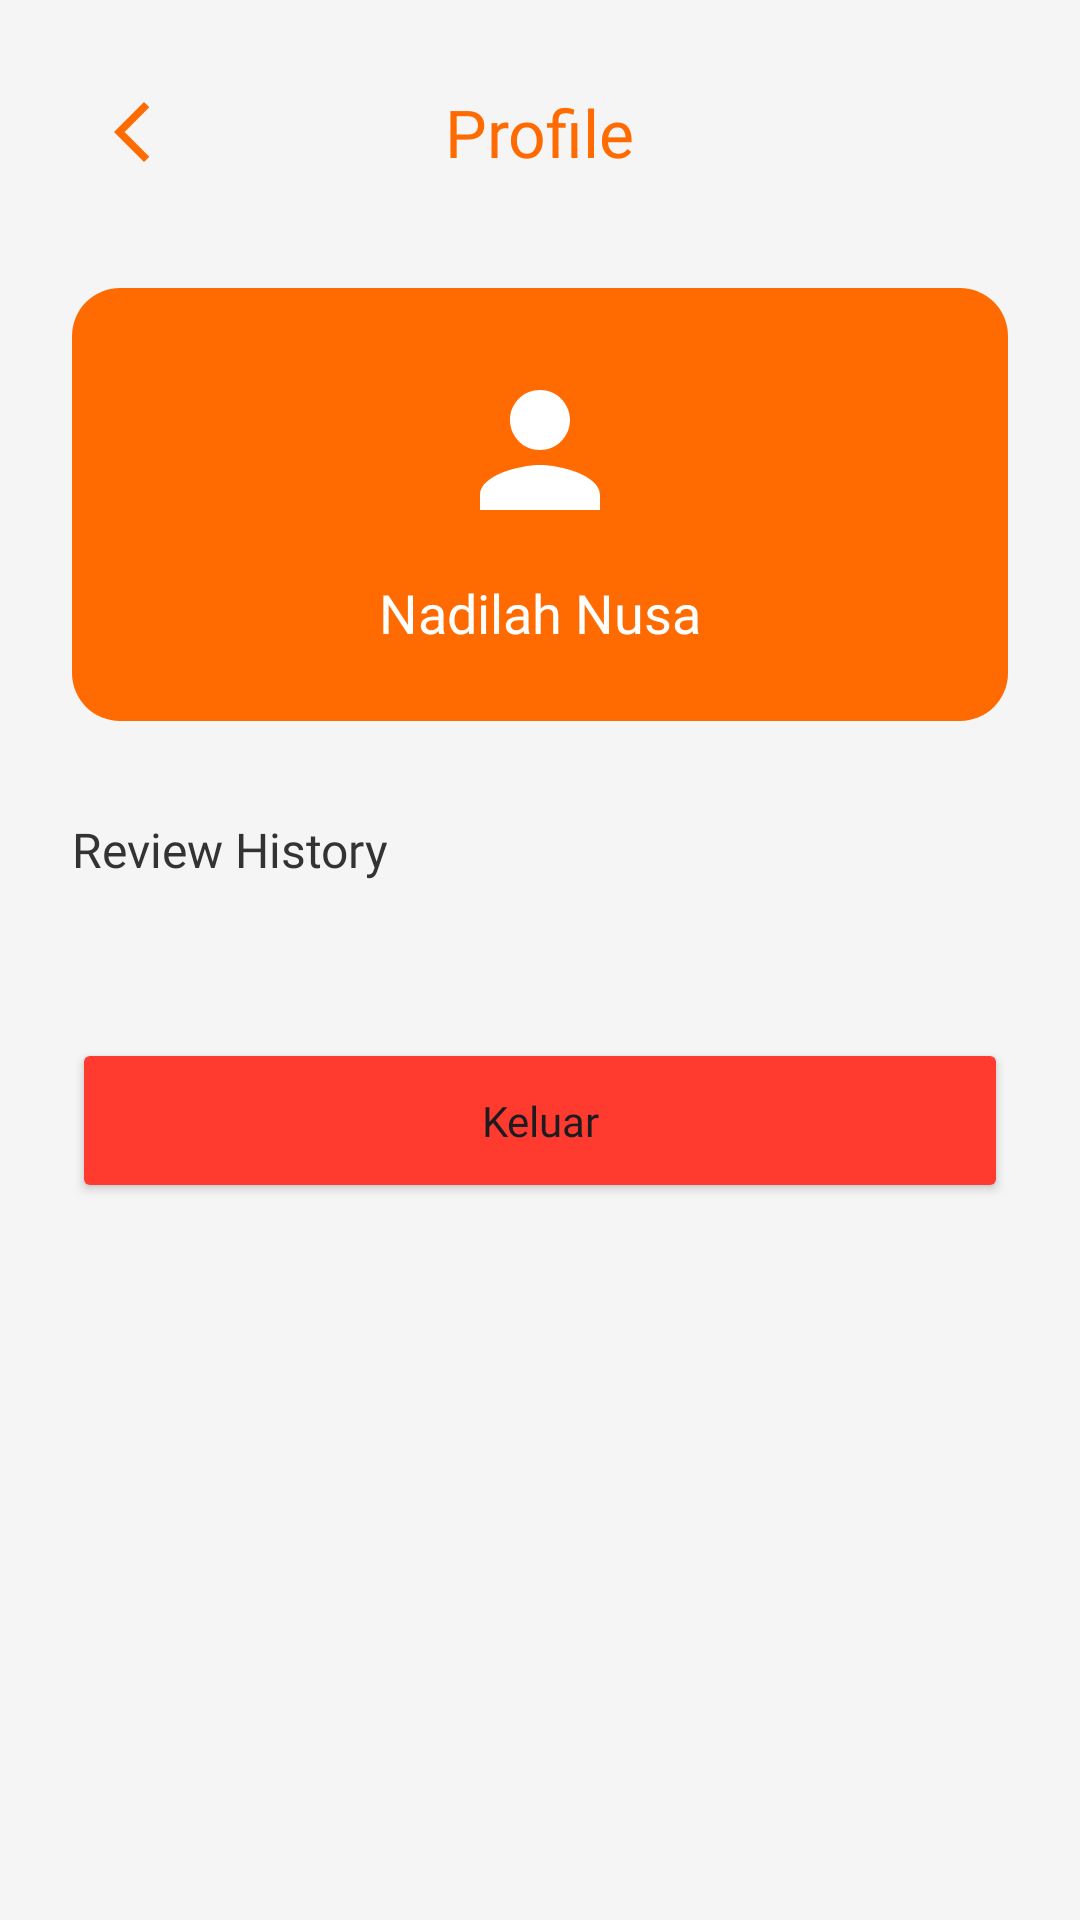

Named icons in this screenshot (1080 × 1920) and their bounding boxes, bbox(x1, y1, x2, y2):
arrow back: bbox(114, 102, 149, 162)
profile: bbox(480, 390, 600, 510)
